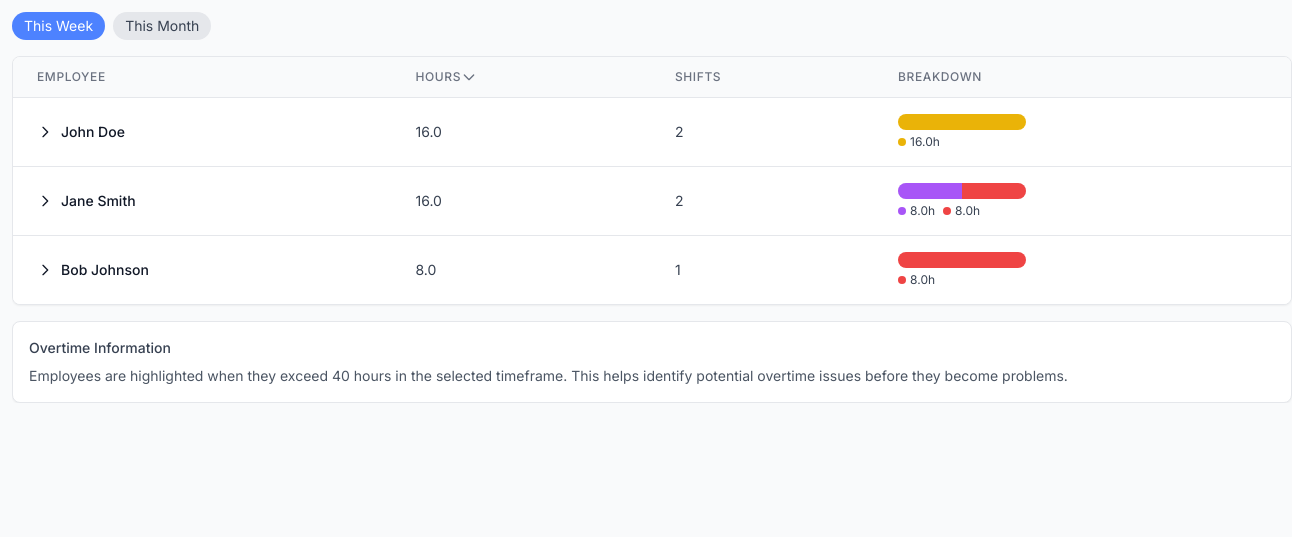
EmployeeHoursView Component › Expandable Employee Details › should switch between expanded employees
The image size is (1292, 537).
Note: Expand John
Click the text "John Doe" at (81, 132), box [37,123,125,140]
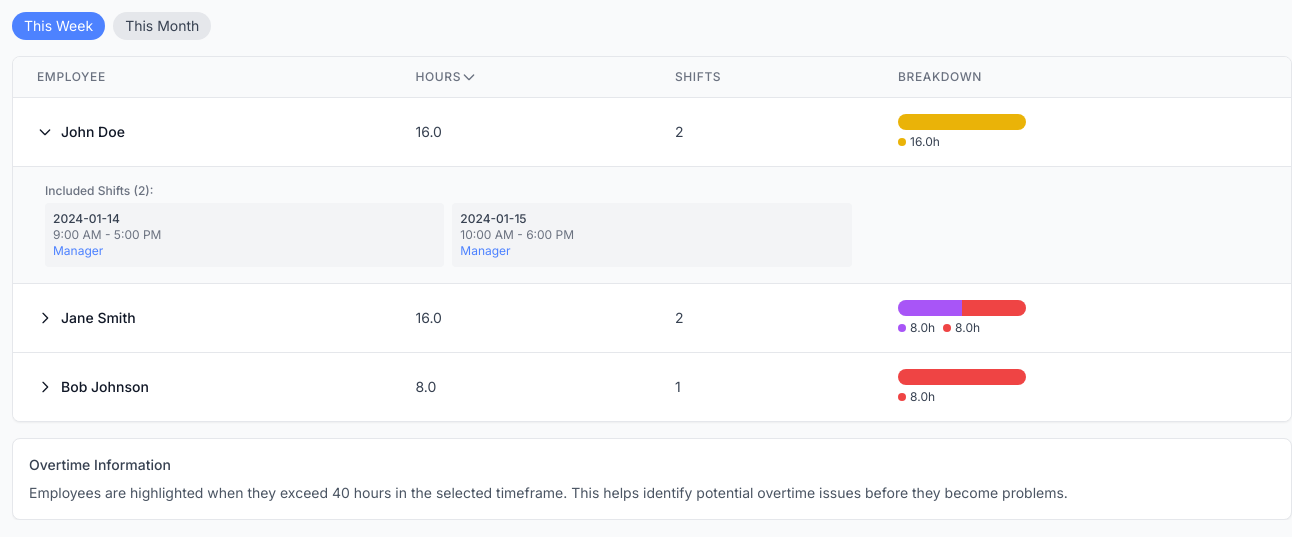
Check: the text "Included Shifts (2):" is shown, box [45,183,153,198]
Note: Expand Jane (should collapse John)
Click the text "Jane Smith" at (86, 318), box [37,309,136,326]
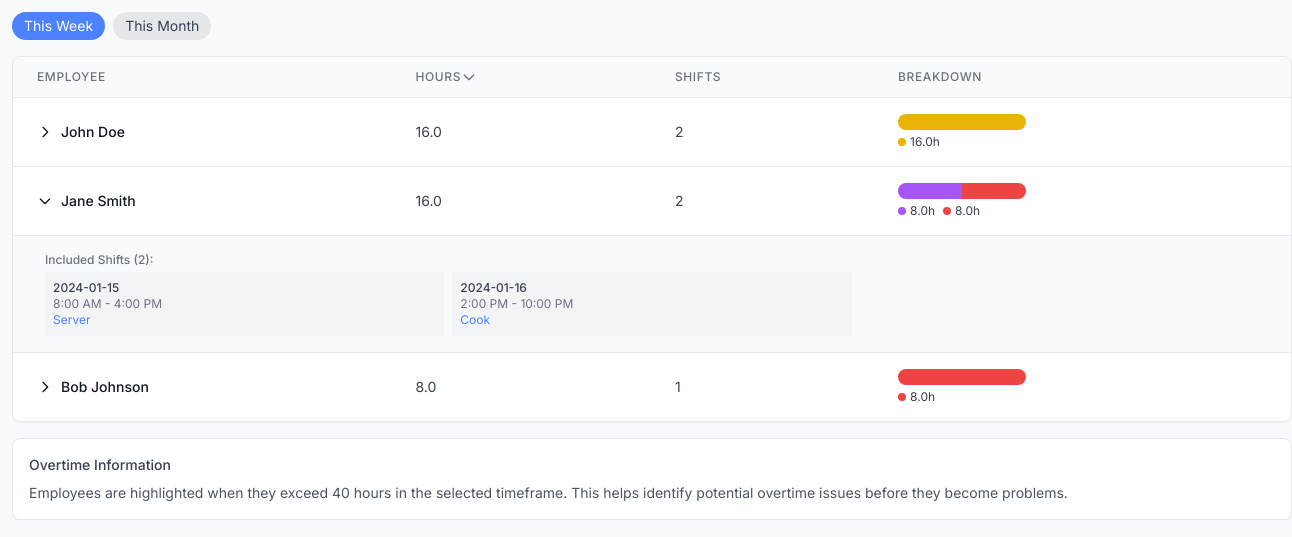
Check: the text "Included Shifts (2):" is shown, box [45,252,153,267]
Check: the text "8:00 AM - 4:00 PM" is shown, box [53,296,162,311]
Check: the text "2:00 PM - 10:00 PM" is shown, box [460,296,573,311]
